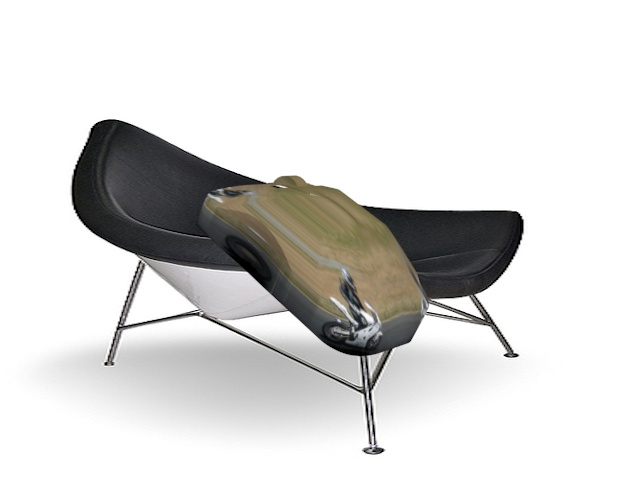mouse: (193, 169, 433, 360)
